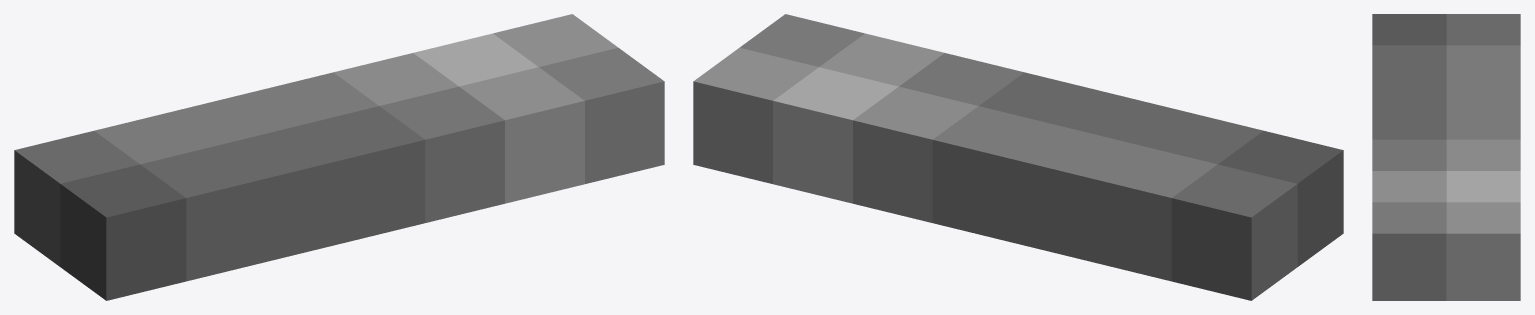
The model's file is acrA.obj.
3 renders of one model, left to right at view 1: azimuth 30°, elevation 25°; view 2: azimuth 150°, elevation 25°; view 3: azimuth 270°, elevation 25°, orthographic. The views are drawn at different scales.
Parts seen in each view (by area): view 1: ACR; view 2: ACR; view 3: ACR.
Part boxes in pixels (x1,y1,x2,y2): ACR: (14, 14, 664, 300); ACR: (693, 14, 1343, 300); ACR: (1372, 14, 1520, 300).
Size of the model in its own units: 0.7 by 0.1 by 0.2.
Materials: 1 (1 with a texture image).
